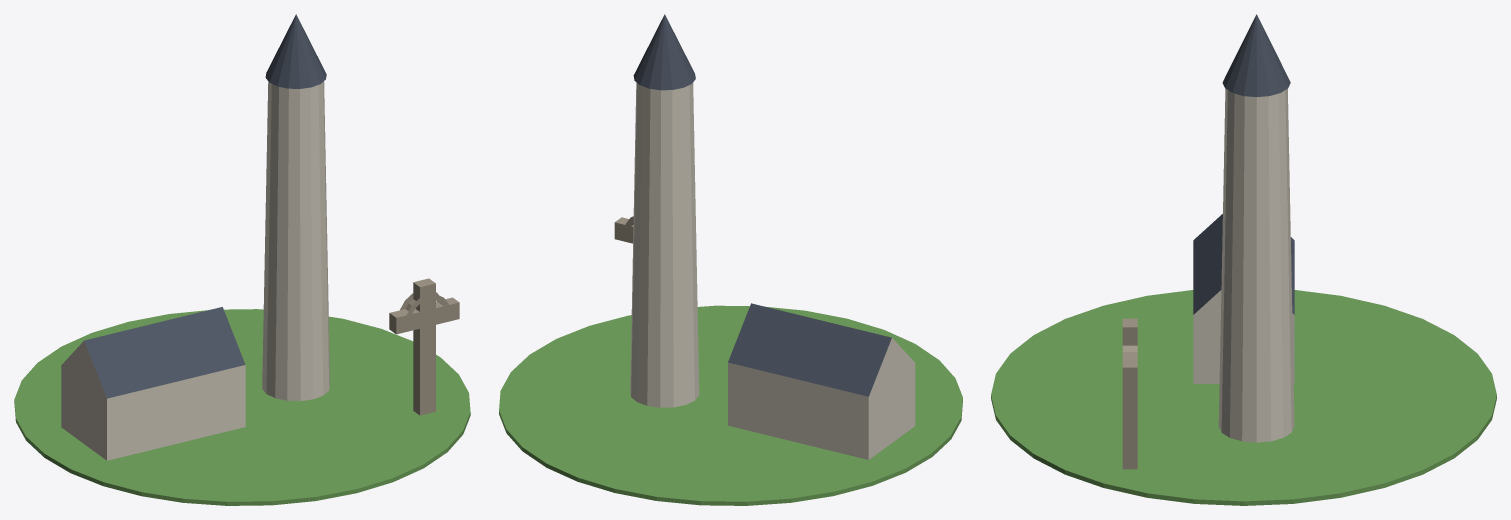
The model's file is clonmacnoise.glb.
3 renders of one model, left to right at view 1: azimuth 30°, elevation 25°; view 2: azimuth 150°, elevation 25°; view 3: azimuth 270°, elevation 25°, orthographic. The views are drawn at different scales.
Bounding box in the file's own units: 2 × 1.82 × 2.
